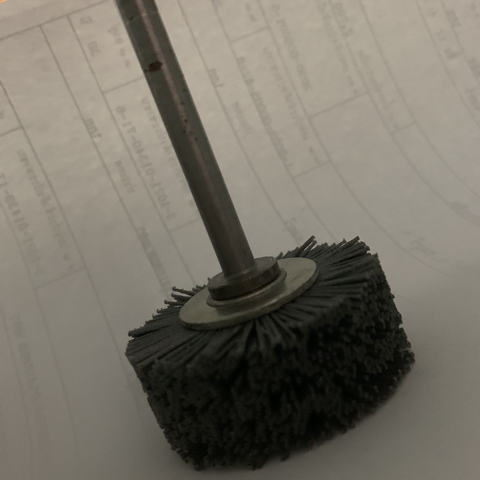Wheel Brush: (91, 30, 430, 472), (117, 18, 425, 471), (78, 34, 394, 459)
